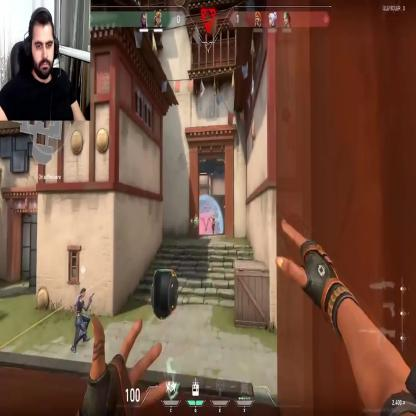enemy: (212, 214, 216, 233)
enemy_head: (213, 214, 214, 218)
